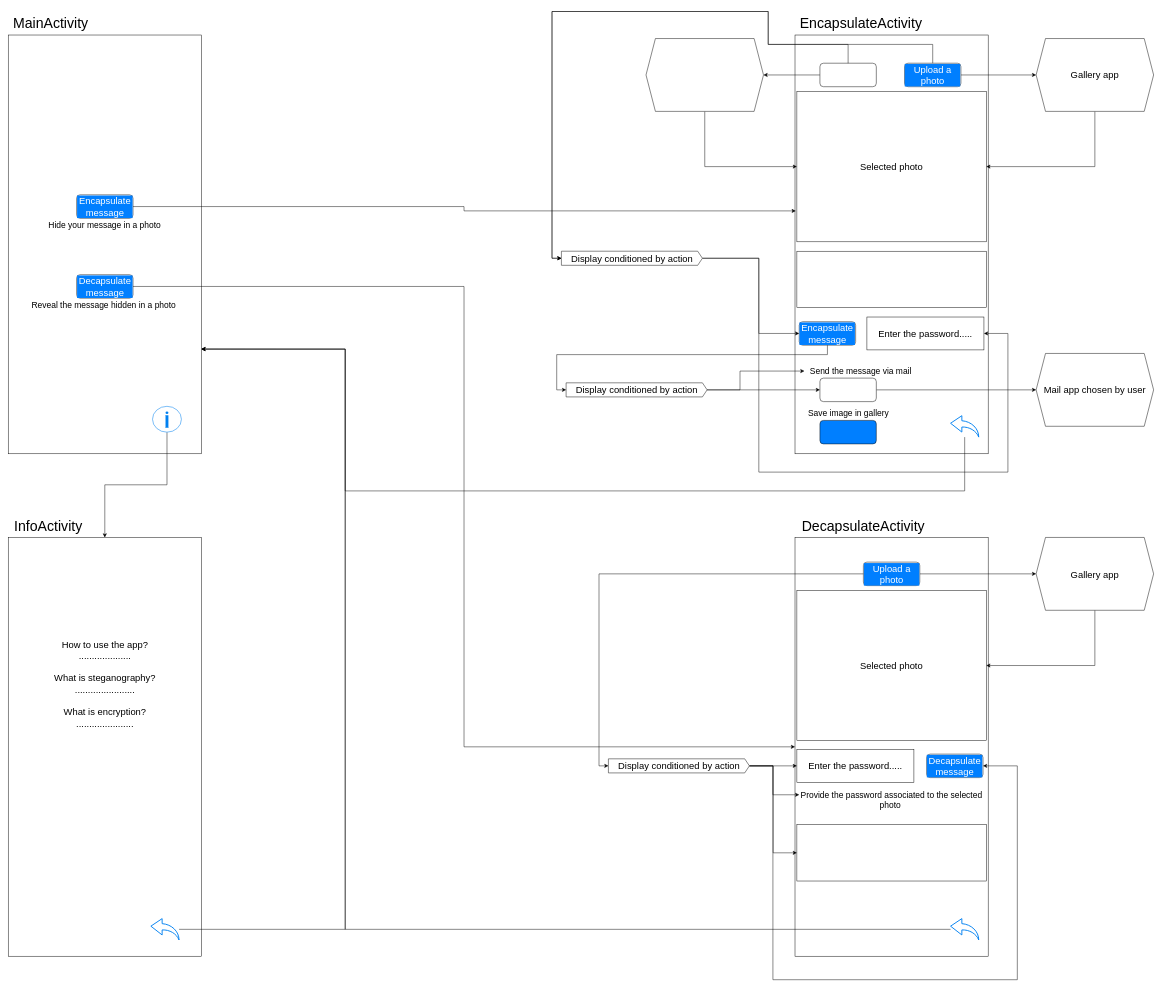
The diagram is 1162 pixels wide and 992 high, and some of its shapes have lost their labels. The centre of each missing label's shape, as x and y in pixels:
Camera app: (x=705, y=74)
Enter the message.....: (x=891, y=279)
Save: (x=847, y=432)
Send the message: (x=847, y=390)
Take a new photo: (x=847, y=75)
The message decapsulated: (x=891, y=852)
